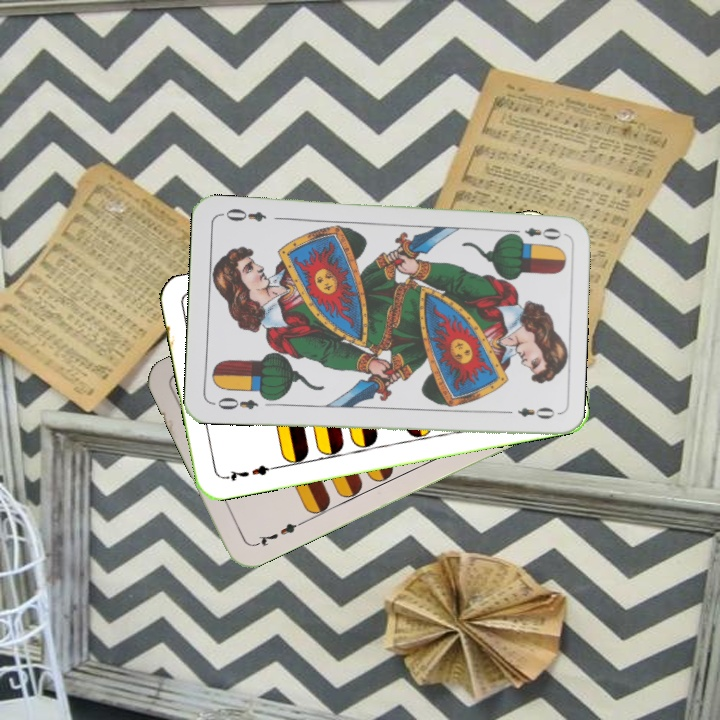E7: (250, 517, 306, 550), (219, 461, 278, 483)
EO: (506, 223, 563, 242), (214, 393, 261, 413)
